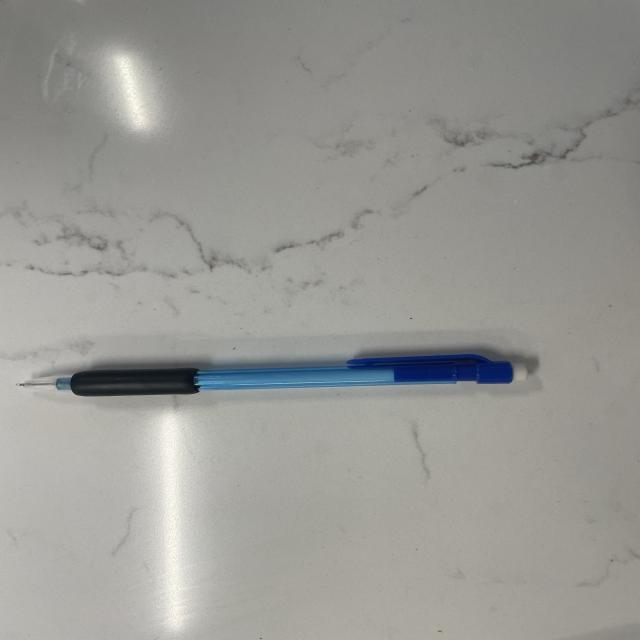mechanical-pencils: (44, 354, 532, 406)
